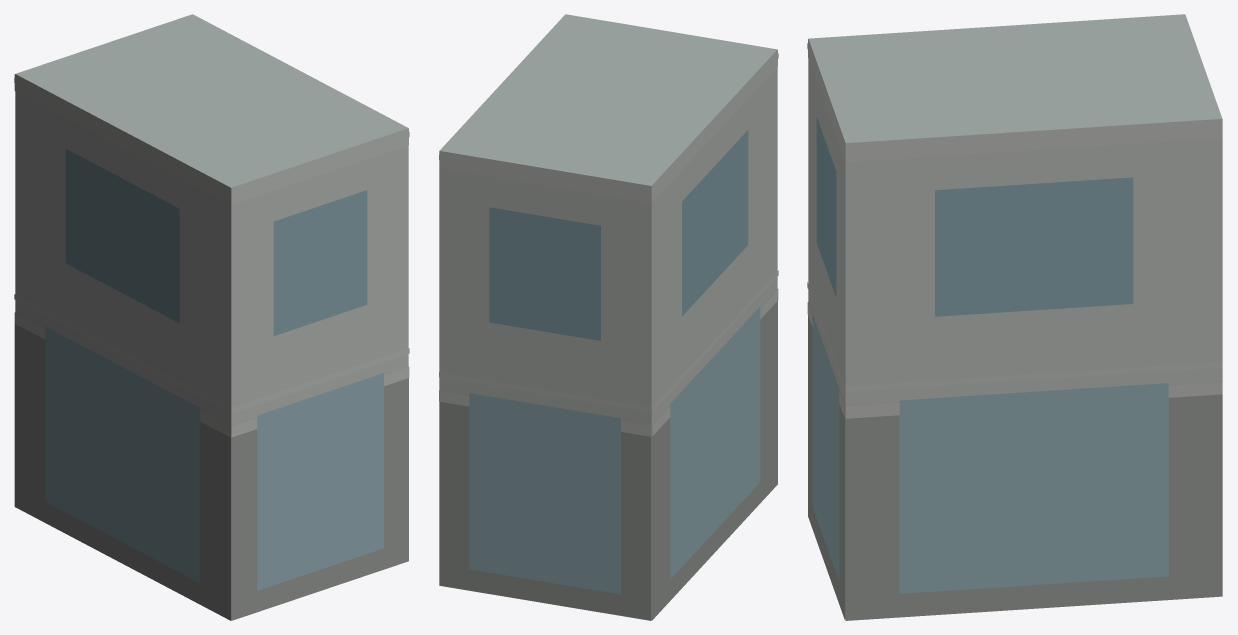
The model's file is survey-upis-32633968.glb.
3 renders of one model, left to right at view 1: azimuth 30°, elevation 25°; view 2: azimuth 150°, elevation 25°; view 3: azimuth 270°, elevation 25°, orthographic. The views are drawn at different scales.
Parts seen in each view (by area): view 1: survey-upis-32633968.tmp; view 2: survey-upis-32633968.tmp; view 3: survey-upis-32633968.tmp.
Part boxes in pixels (x1,y1,x2,y2): survey-upis-32633968.tmp: [14, 14, 409, 620]; survey-upis-32633968.tmp: [439, 14, 778, 620]; survey-upis-32633968.tmp: [807, 14, 1222, 620].
Bounding box in the file's own units: 3.56 × 6.1 × 4.82.
